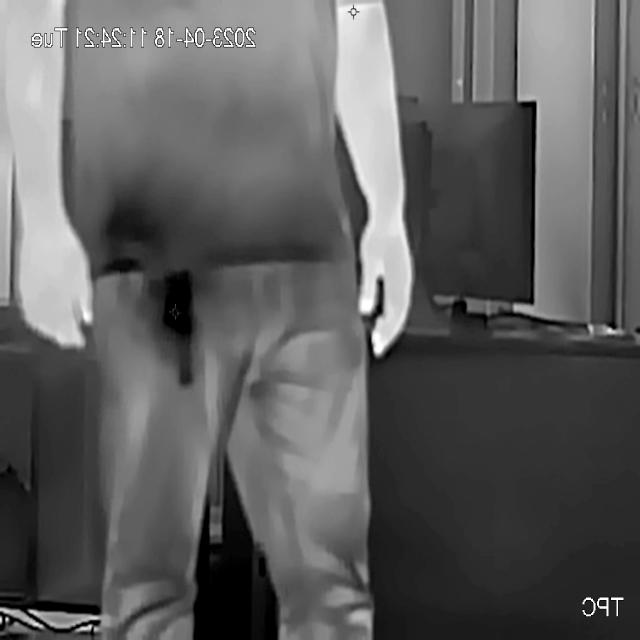Weapon: (98, 181, 200, 392)
